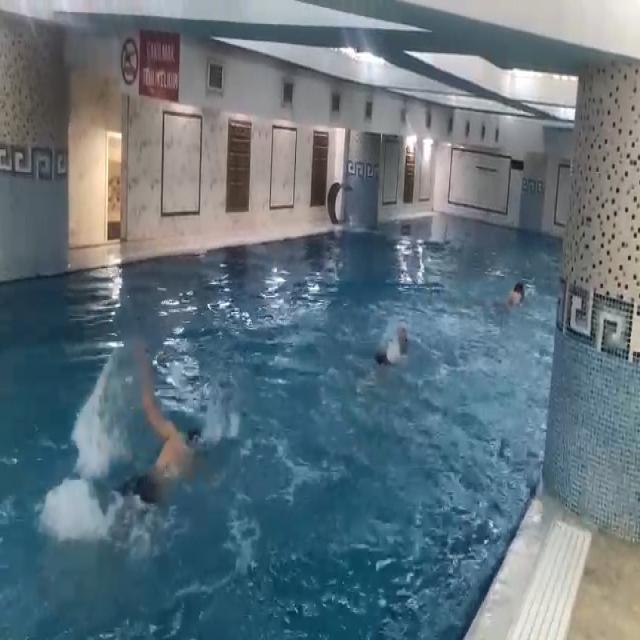Drowning: (127, 348, 210, 506), (372, 323, 422, 369)
